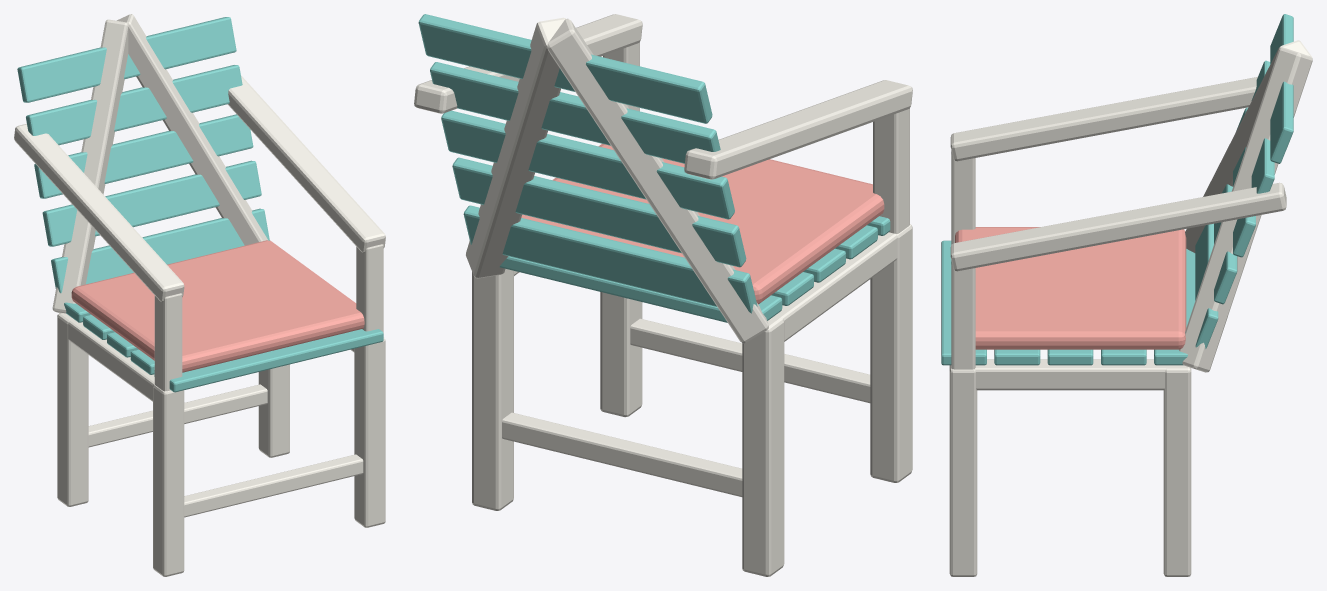
File: beach_chair.glb
3 renders of one model, left to right at view 1: azimuth 30°, elevation 25°; view 2: azimuth 150°, elevation 25°; view 3: azimuth 270°, elevation 25°, orthographic. The views are drawn at different scales.
Visible parts, largest first — view 1: beach_chair_cushion, beach_chair_armrest_l, beach_chair_back_slat4, beach_chair_armrest_r, beach_chair_post_r, beach_chair_post_l, beach_chair_leg_front_l, beach_chair_back_slat3, beach_chair_back_slat1, beach_chair_leg_front_r, beach_chair_leg_rear_l, beach_chair_back_slat2 (+8 smaller); view 2: beach_chair_cushion, beach_chair_leg_rear_l, beach_chair_post_l, beach_chair_leg_front_l, beach_chair_back_slat4, beach_chair_leg_rear_r, beach_chair_back_slat1, beach_chair_back_slat0, beach_chair_back_slat2, beach_chair_post_r, beach_chair_back_slat3, beach_chair_armrest_l (+10 smaller); view 3: beach_chair_cushion, beach_chair_armrest_r, beach_chair_armrest_l, beach_chair_post_r, beach_chair_leg_rear_r, beach_chair_leg_front_r, beach_chair_rail_r, beach_chair_armpost_r, beach_chair_post_l, beach_chair_back_slat4, beach_chair_armpost_l, beach_chair_seat_slat0 (+8 smaller).
Boxes of the visible parts, left/top/right/bottom form: beach_chair_cushion: left=71, top=240, right=364, bottom=372; beach_chair_armrest_l: left=14, top=123, right=184, bottom=302; beach_chair_back_slat4: left=17, top=17, right=236, bottom=102; beach_chair_armrest_r: left=227, top=75, right=385, bottom=253; beach_chair_post_r: left=117, top=14, right=270, bottom=245; beach_chair_post_l: left=52, top=19, right=128, bottom=313; beach_chair_leg_front_l: left=153, top=384, right=184, bottom=576; beach_chair_back_slat3: left=26, top=65, right=242, bottom=145; beach_chair_back_slat1: left=42, top=160, right=261, bottom=246; beach_chair_leg_front_r: left=354, top=337, right=385, bottom=527; beach_chair_leg_rear_l: left=57, top=313, right=88, bottom=506; beach_chair_back_slat2: left=34, top=114, right=253, bottom=198; beach_chair_cushion: left=521, top=144, right=884, bottom=304; beach_chair_leg_rear_l: left=742, top=316, right=784, bottom=576; beach_chair_post_l: left=547, top=18, right=768, bottom=343; beach_chair_leg_front_l: left=870, top=224, right=912, bottom=482; beach_chair_back_slat4: left=418, top=14, right=712, bottom=123; beach_chair_leg_rear_r: left=472, top=269, right=513, bottom=510; beach_chair_back_slat1: left=452, top=157, right=746, bottom=267; beach_chair_back_slat0: left=463, top=205, right=757, bottom=313; beach_chair_back_slat2: left=441, top=110, right=734, bottom=219; beach_chair_post_r: left=466, top=17, right=565, bottom=278; beach_chair_back_slat3: left=430, top=62, right=720, bottom=163; beach_chair_armrest_l: left=684, top=80, right=912, bottom=179; beach_chair_cushion: left=955, top=227, right=1186, bottom=349; beach_chair_armrest_r: left=950, top=182, right=1286, bottom=271; beach_chair_armrest_l: left=950, top=77, right=1257, bottom=161; beach_chair_post_r: left=1179, top=47, right=1312, bottom=372; beach_chair_leg_rear_r: left=1163, top=365, right=1191, bottom=576; beach_chair_leg_front_r: left=949, top=365, right=977, bottom=576; beach_chair_rail_r: left=974, top=359, right=1166, bottom=390; beach_chair_armpost_r: left=951, top=261, right=975, bottom=369; beach_chair_post_l: left=1185, top=40, right=1312, bottom=252; beach_chair_back_slat4: left=1270, top=14, right=1293, bottom=163; beach_chair_armpost_l: left=951, top=151, right=975, bottom=244; beach_chair_seat_slat0: left=941, top=240, right=986, bottom=365.
Bounding box in the file's own units: 0.5039 × 0.8977 × 0.6424.
